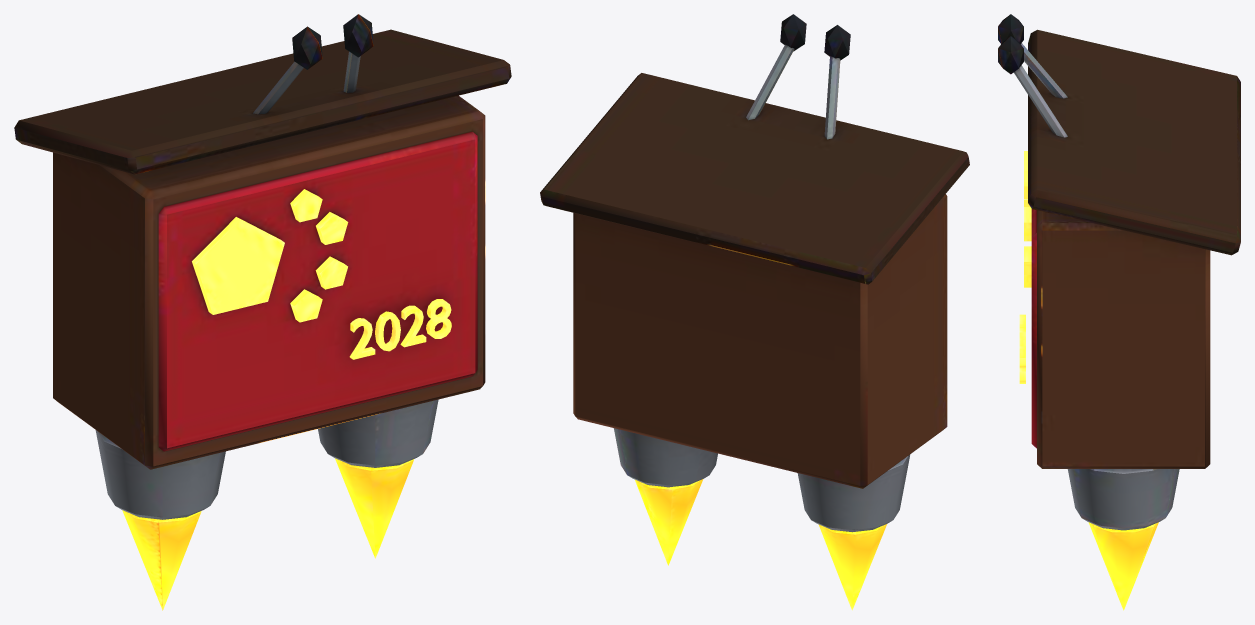
Rendered from atril.glb.
3 renders of one model, left to right at view 1: azimuth 30°, elevation 25°; view 2: azimuth 150°, elevation 25°; view 3: azimuth 270°, elevation 25°, orthographic. The views are drawn at different scales.
Parts seen in each view (by area): view 1: atril; view 2: atril; view 3: atril.
Part boxes in pixels (<box>): atril: <box>14,14,511,610</box>; atril: <box>540,14,969,610</box>; atril: <box>998,14,1240,610</box>.
Bounding box in the file's own units: 1.8 × 2.75 × 1.12.
1 material, 1 textured.
